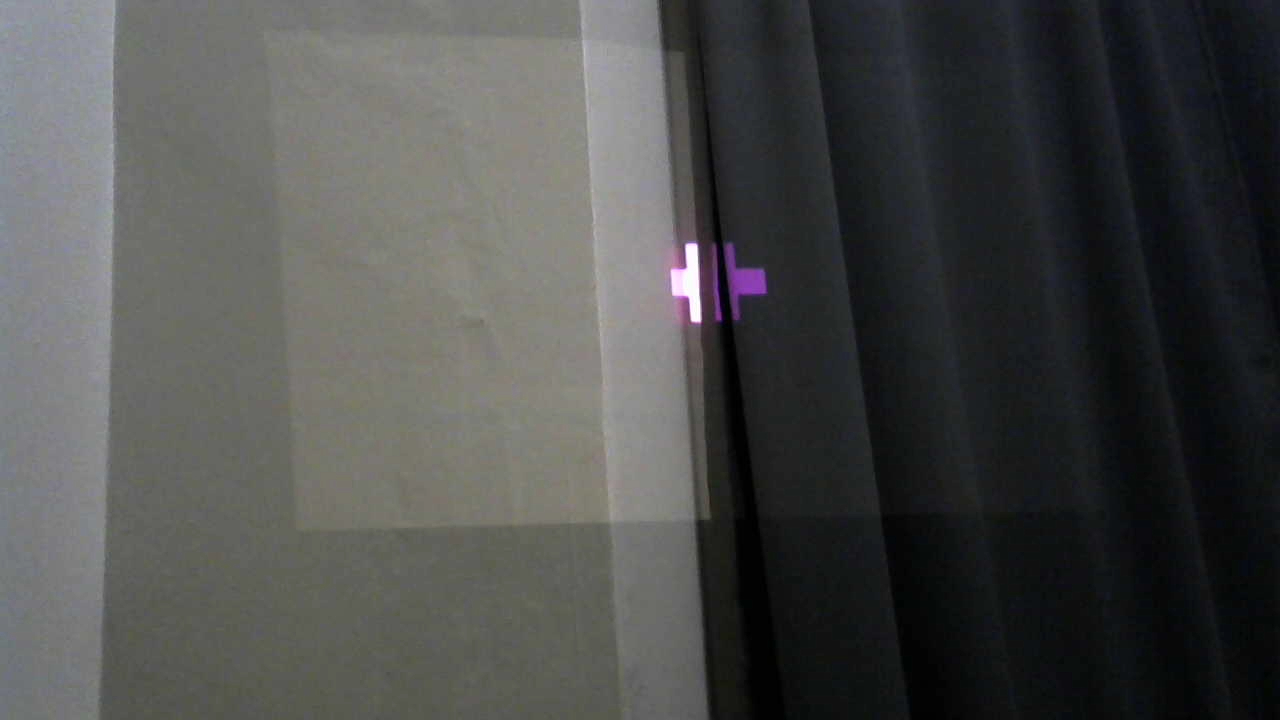calibration_symbol: (671, 243, 767, 324)
